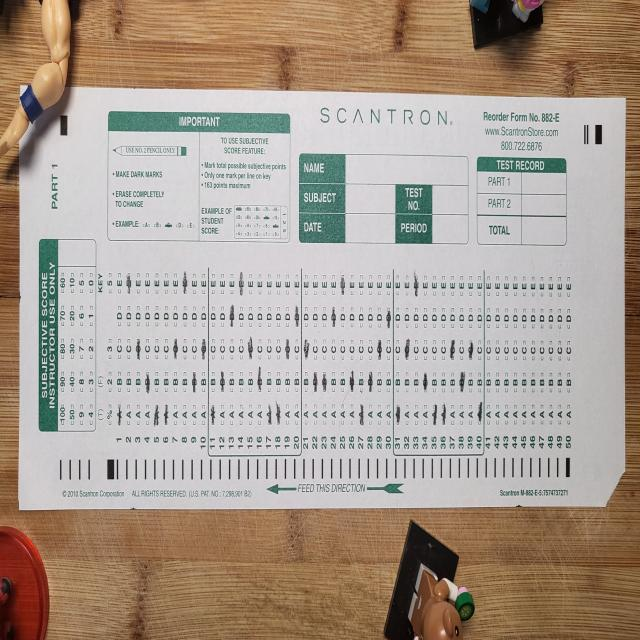scantron: (19, 82, 626, 511)
